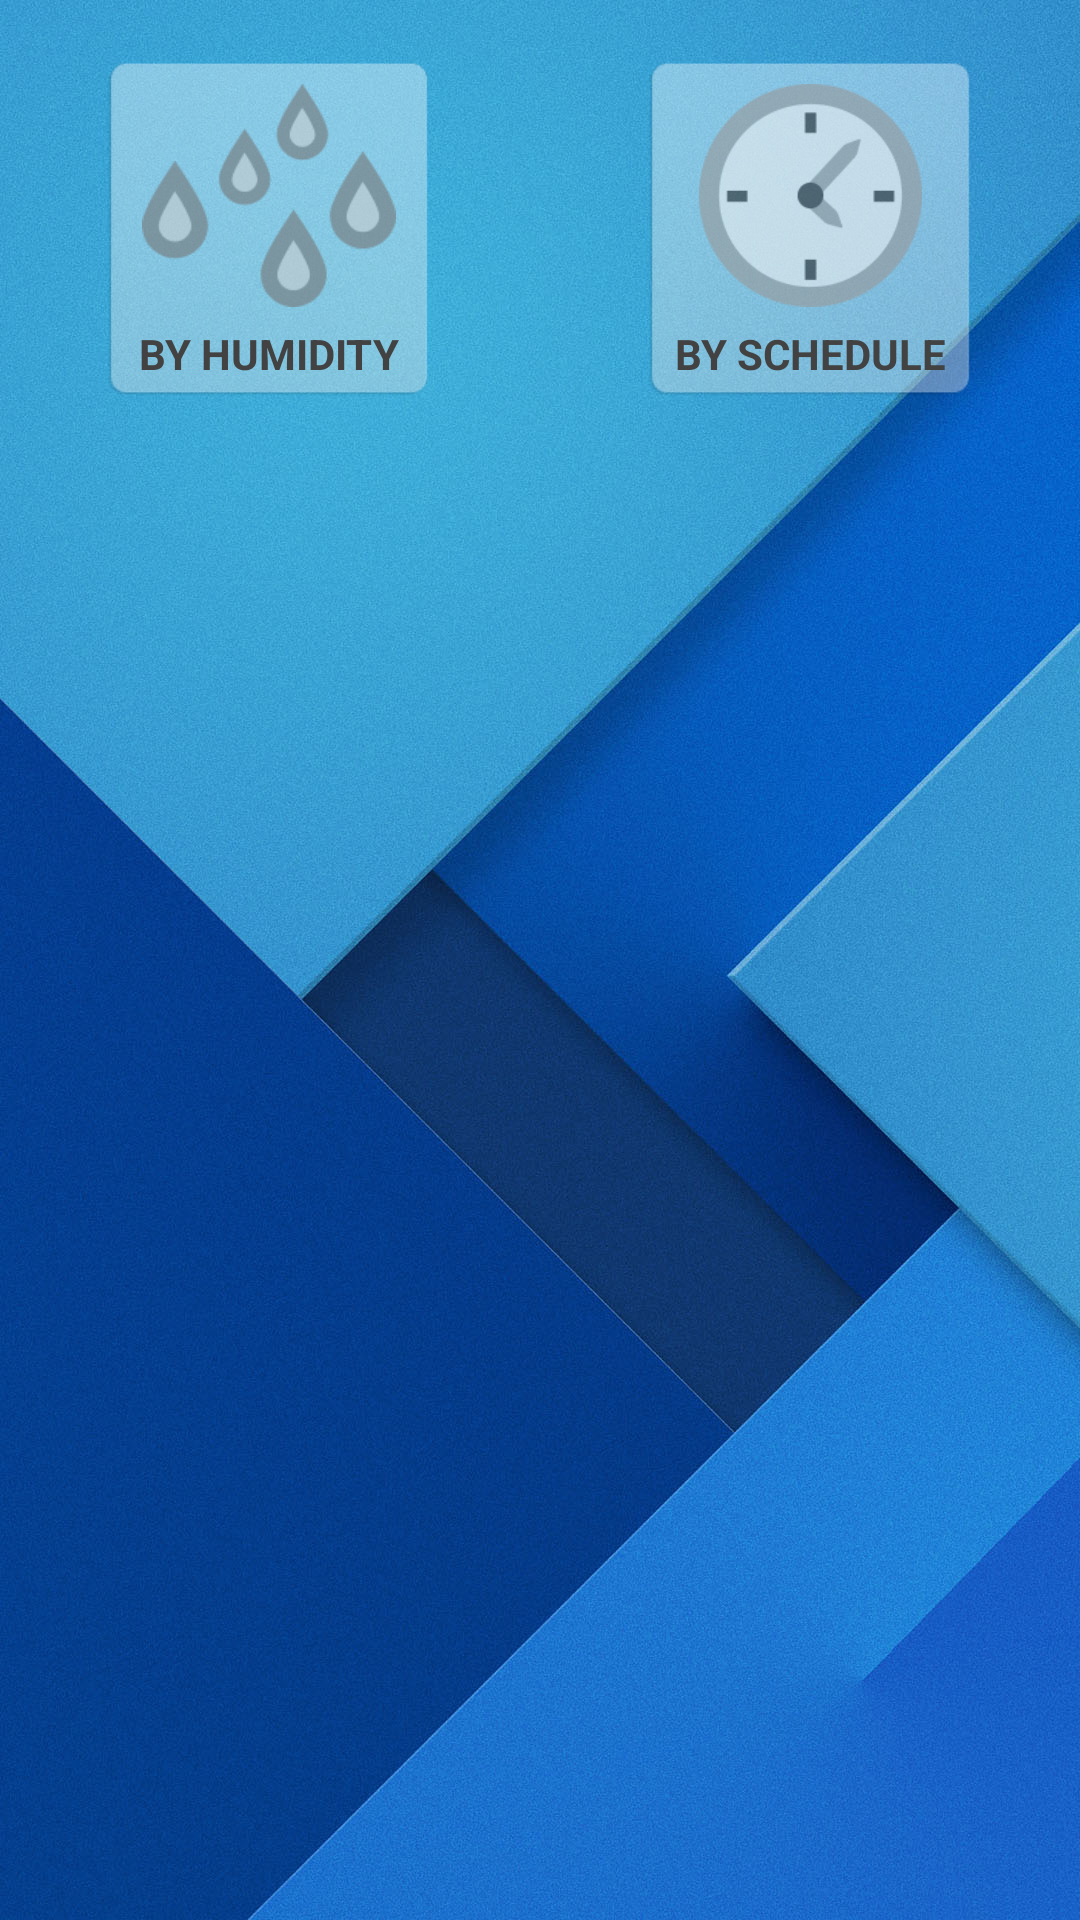

Icon bounding boxes for this 1080 × 1920 phone screenshot, format (x1, y1, x2, y2):
clock: (699, 84, 922, 307)
